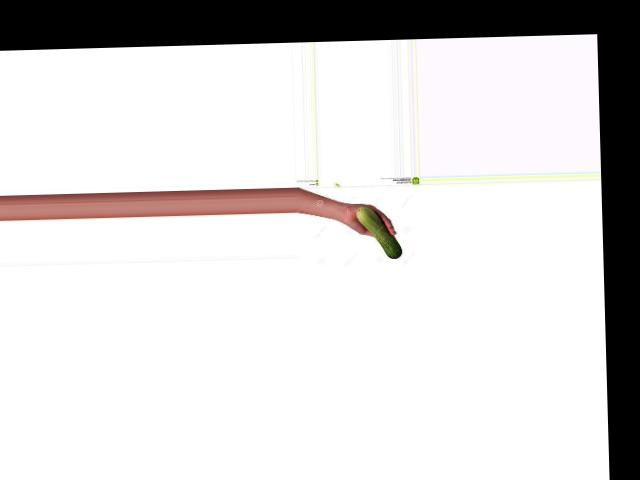cucumber: (355, 205, 401, 259)
